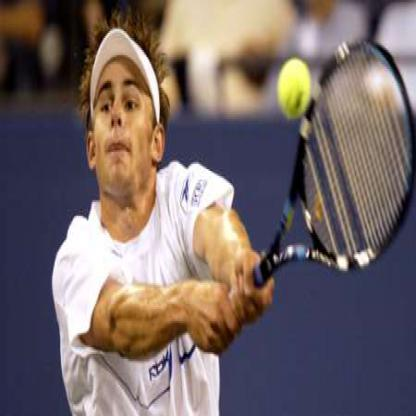face: (91, 31, 157, 195)
